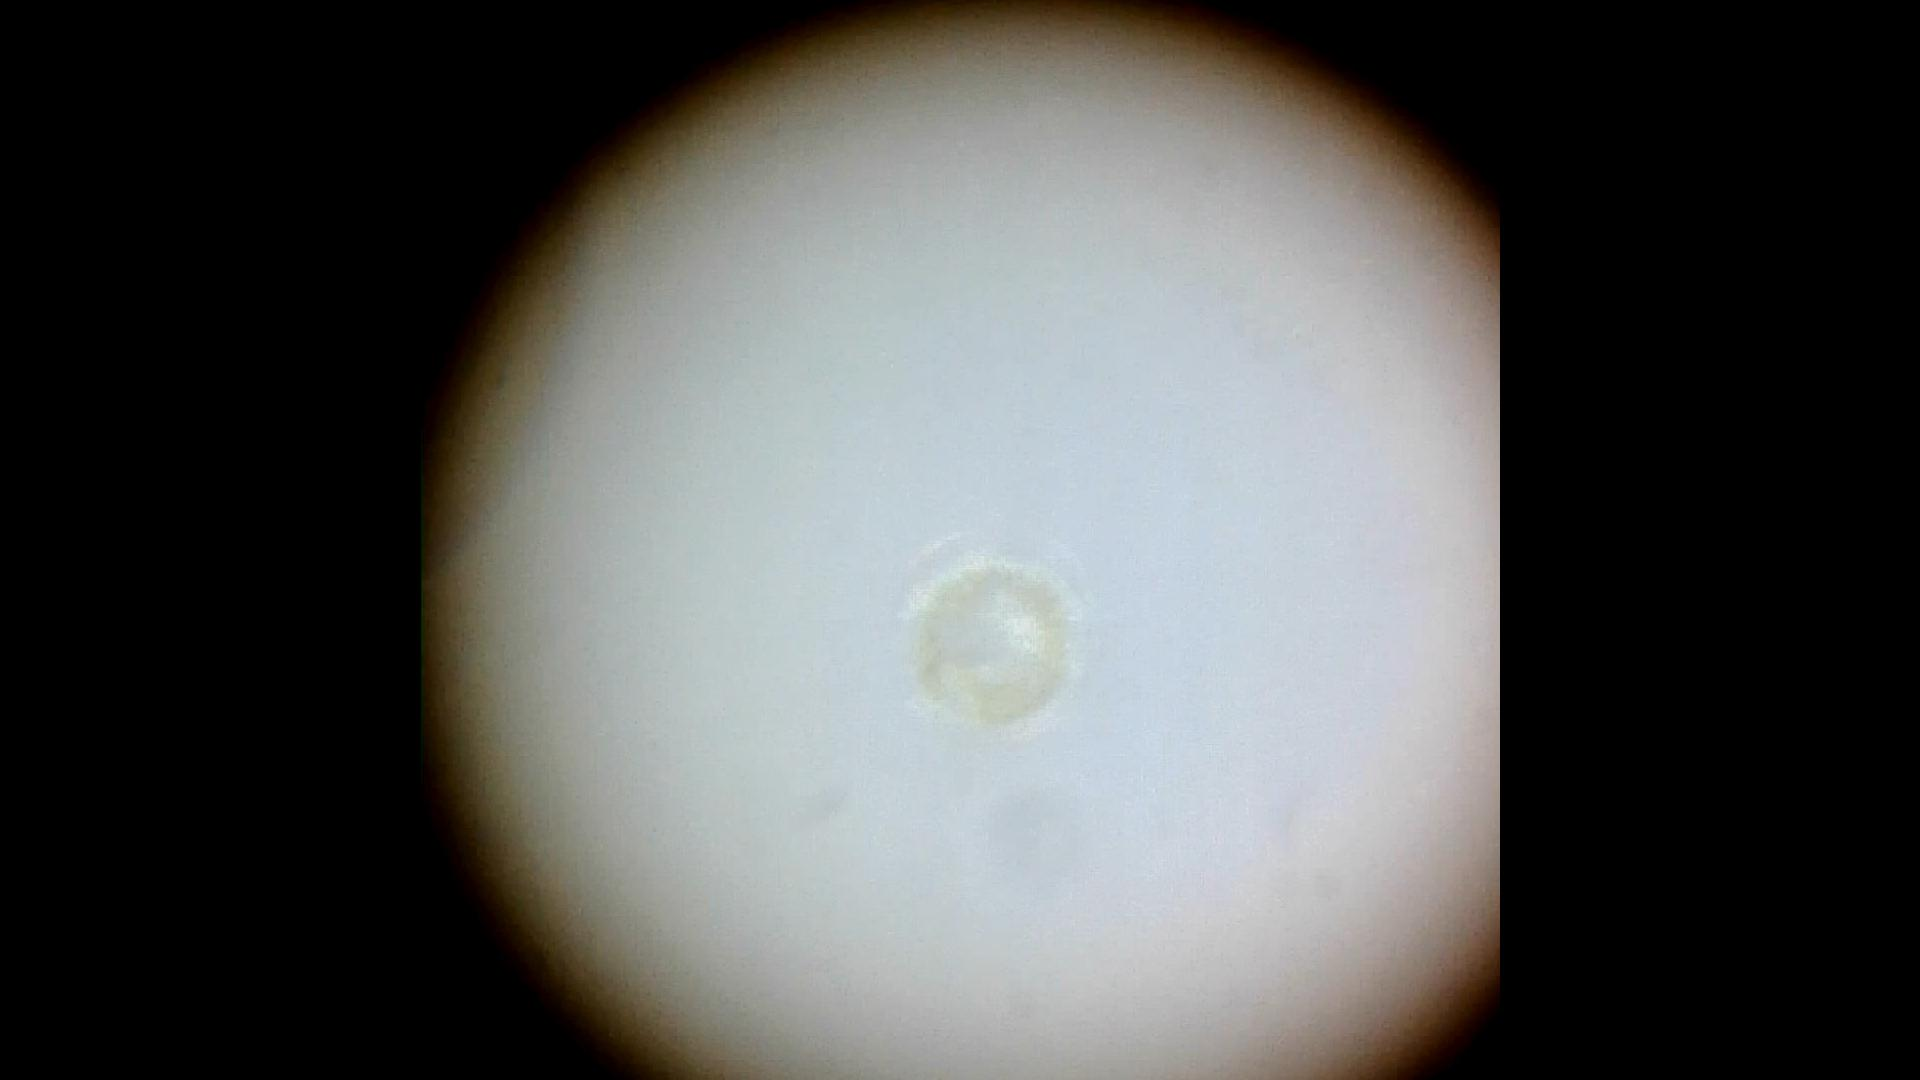alexandrium minutum: (903, 556, 1081, 728)
